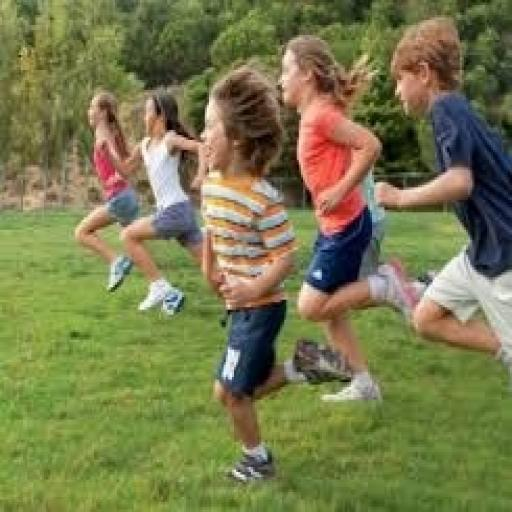running: (192, 65, 356, 487), (276, 32, 428, 410), (115, 87, 211, 320), (71, 88, 144, 298)
